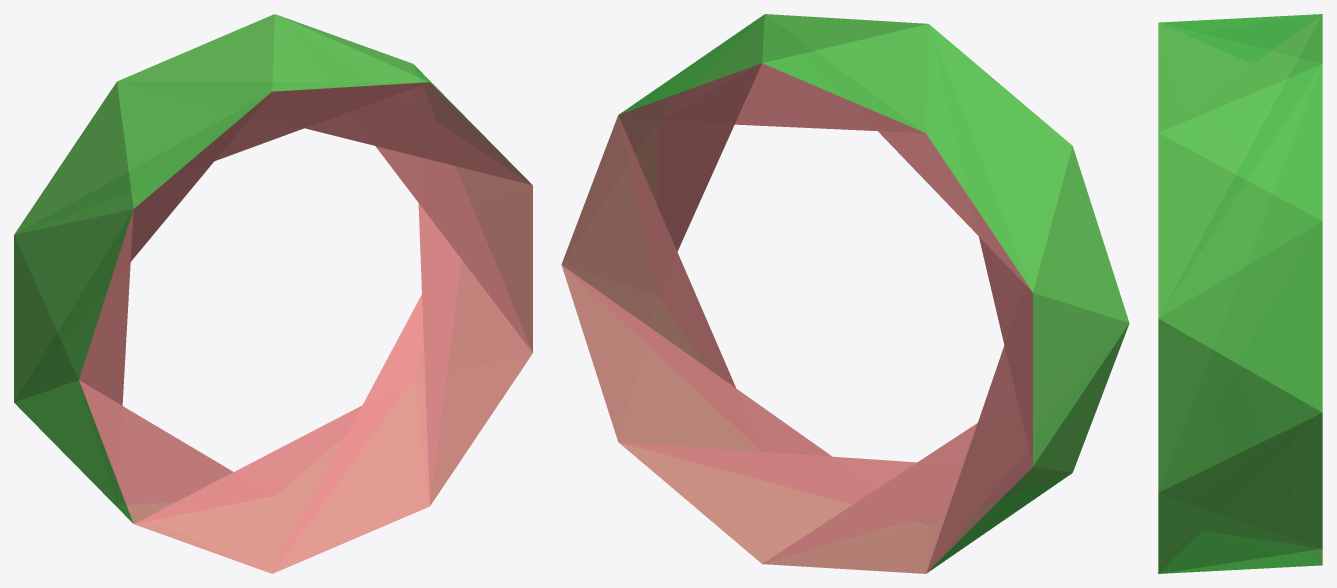
File: AntiEnneagonalIrisToroid.obj
3 renders of one model, left to right at view 1: azimuth 30°, elevation 25°; view 2: azimuth 150°, elevation 25°; view 3: azimuth 270°, elevation 25°, orthographic. The views are drawn at different scales.
Bounding box in the file's own units: 2.6 × 2.56 × 0.76.
